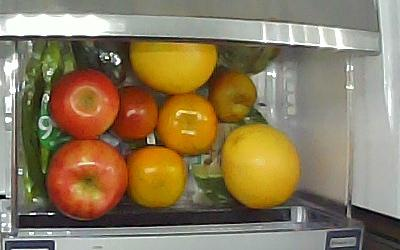apple: (47, 140, 130, 221), (50, 69, 119, 139)
grapefruit: (222, 123, 301, 208), (128, 41, 217, 93)
persimmon: (128, 145, 187, 209), (158, 93, 217, 155)
prune: (107, 86, 158, 142), (209, 71, 258, 123)
